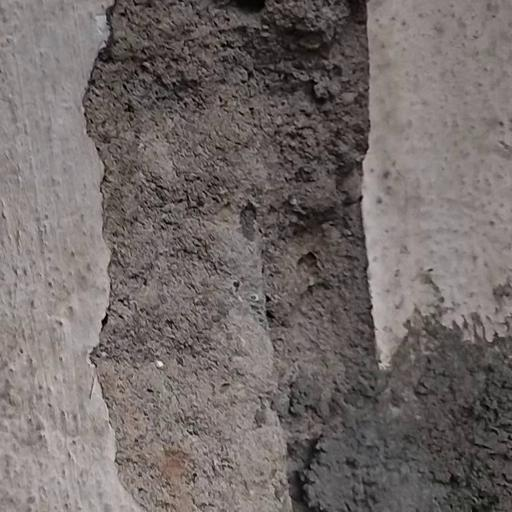spalling: (83, 0, 512, 512)
